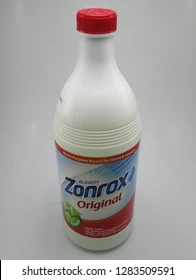toxic_waste: (58, 9, 139, 252)
